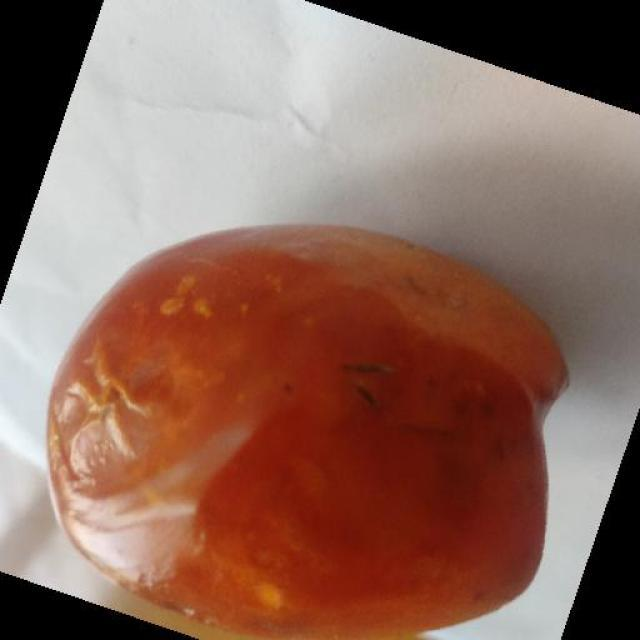Rotten Tomato: (41, 209, 558, 636)
